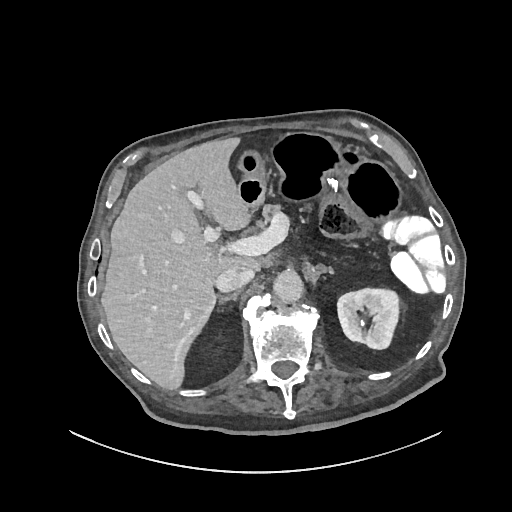Lesion: (354, 314, 367, 332)
